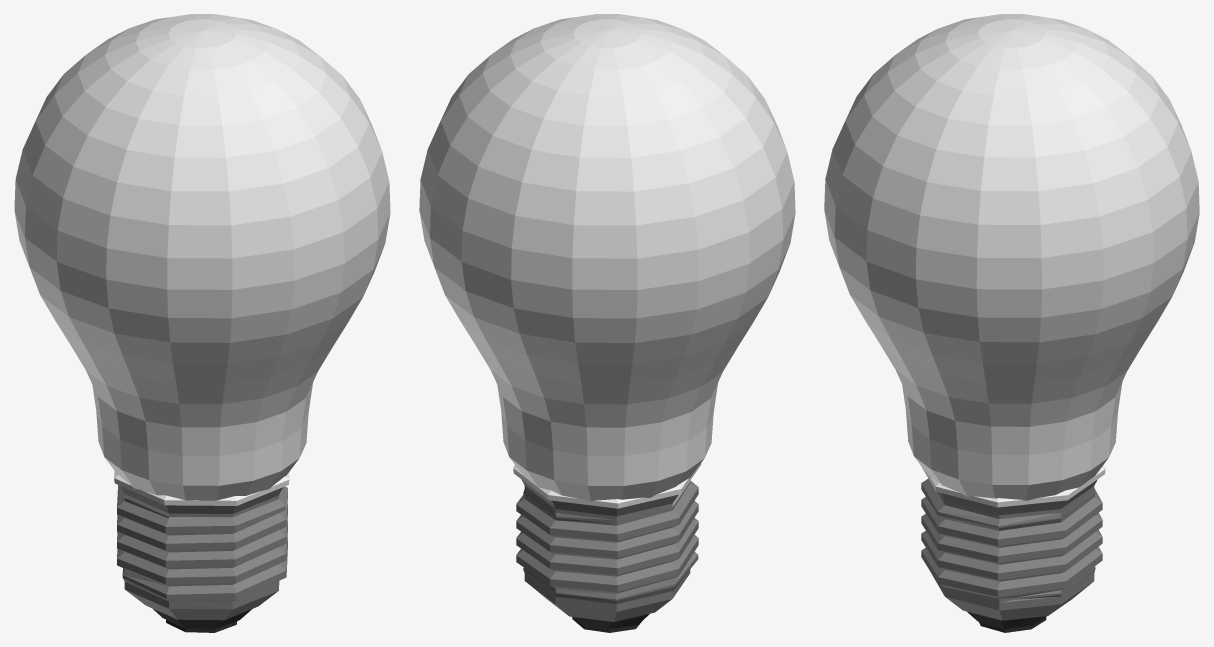
The model's file is 521 Lights.gltf.
3 views of the same model, side by side, from view 1: azimuth 30°, elevation 25°; view 2: azimuth 150°, elevation 25°; view 3: azimuth 270°, elevation 25° (orthographic).
Parts seen in each view (by area): view 1: node-0; view 2: node-0; view 3: node-0.
Part boxes in pixels (x1,y1,x2,y2): node-0: [14, 14, 390, 632]; node-0: [419, 14, 795, 632]; node-0: [824, 14, 1199, 632].
Bounding box in the file's own units: 22.17 × 38.69 × 22.46.
Materials: 1 (1 with a texture image).
